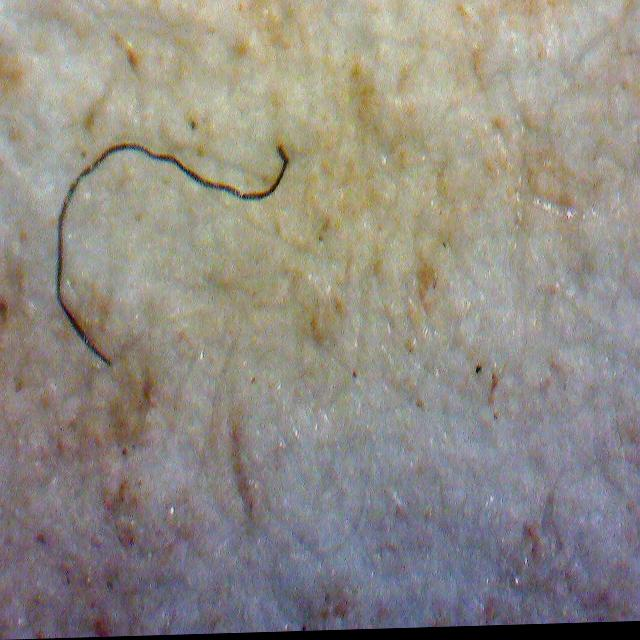microplastic: (0, 58, 300, 371)
